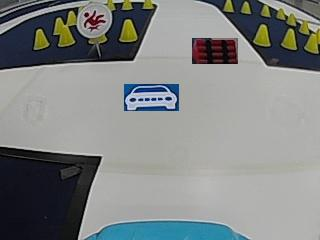cone: (119, 18, 138, 42), (253, 23, 271, 47), (281, 28, 297, 50), (57, 24, 73, 46), (304, 30, 318, 54), (33, 28, 48, 50), (222, 0, 234, 13), (240, 1, 251, 15), (286, 12, 296, 26), (276, 6, 286, 20), (299, 19, 308, 34), (260, 4, 270, 17), (122, 0, 133, 10), (142, 0, 153, 9)
tumble: (79, 5, 110, 34)
